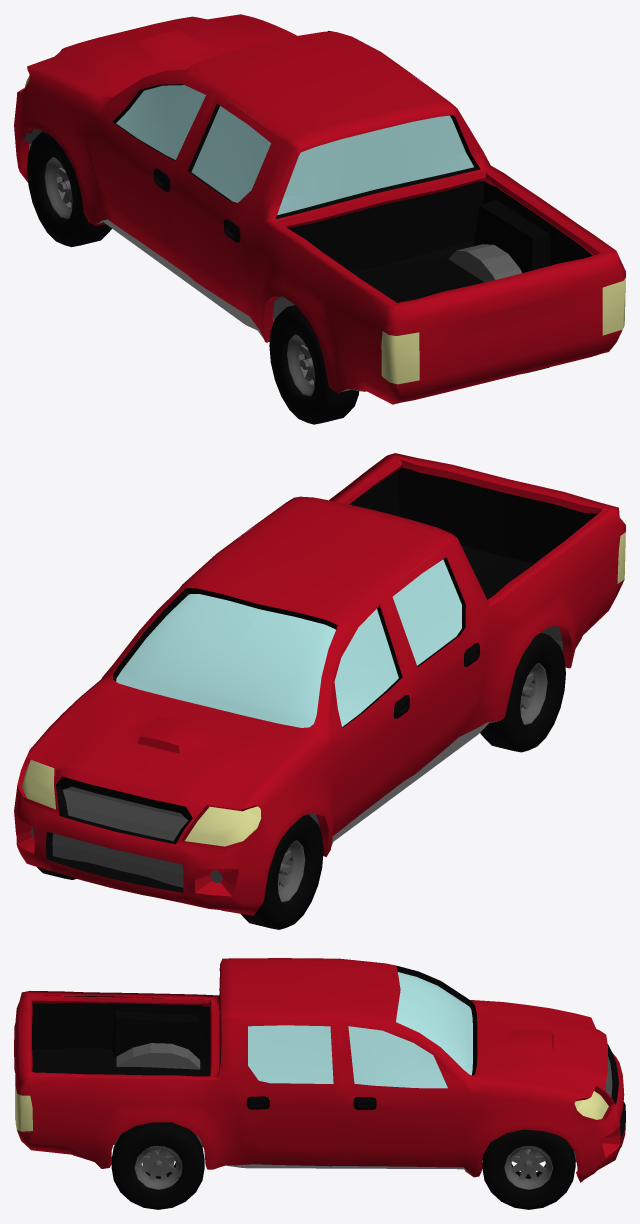
File: camioneta.fbx
The picture shows the model from 3 angles, top to bottom: view 1: azimuth 30°, elevation 25°; view 2: azimuth 150°, elevation 25°; view 3: azimuth 270°, elevation 25°; orthographic projection. The views are drawn at different scales.
Parts seen in each view (by area): view 1: polySurface10, polySurface4, pCylinder4, pCylinder3, polySurface11, polySurface30, polySurface29; view 2: polySurface10, polySurface4, polySurface8, pCylinder4, pCylinder3, polySurface11, polySurface29, polySurface30; view 3: polySurface10, polySurface4, pCylinder5, pCylinder6, polySurface11, polySurface31, polySurface28, polySurface19, polySurface17.
Part boxes in pixels (bbox=[...]): polySurface10: bbox=[14, 14, 625, 404]; polySurface4: bbox=[280, 181, 592, 302]; pCylinder4: bbox=[269, 305, 359, 424]; pCylinder3: bbox=[27, 131, 111, 247]; polySurface11: bbox=[23, 110, 521, 391]; polySurface30: bbox=[287, 334, 314, 396]; polySurface29: bbox=[44, 157, 72, 219]; polySurface10: bbox=[14, 453, 625, 915]; polySurface4: bbox=[349, 467, 597, 599]; polySurface8: bbox=[52, 786, 188, 887]; pCylinder4: bbox=[480, 633, 565, 752]; pCylinder3: bbox=[241, 814, 323, 929]; polySurface11: bbox=[30, 625, 581, 882]; polySurface29: bbox=[278, 840, 305, 902]; polySurface30: bbox=[521, 663, 547, 724]; polySurface10: bbox=[14, 958, 625, 1182]; polySurface4: bbox=[32, 995, 210, 1076]; pCylinder5: bbox=[111, 1122, 204, 1209]; pCylinder6: bbox=[482, 1129, 575, 1209]; polySurface11: bbox=[73, 1043, 576, 1173]; polySurface31: bbox=[504, 1145, 552, 1189]; polySurface28: bbox=[134, 1145, 182, 1189]; polySurface19: bbox=[511, 1149, 545, 1180]; polySurface17: bbox=[141, 1149, 175, 1180].
Size of the model in its own units: 242 by 222 by 669.
